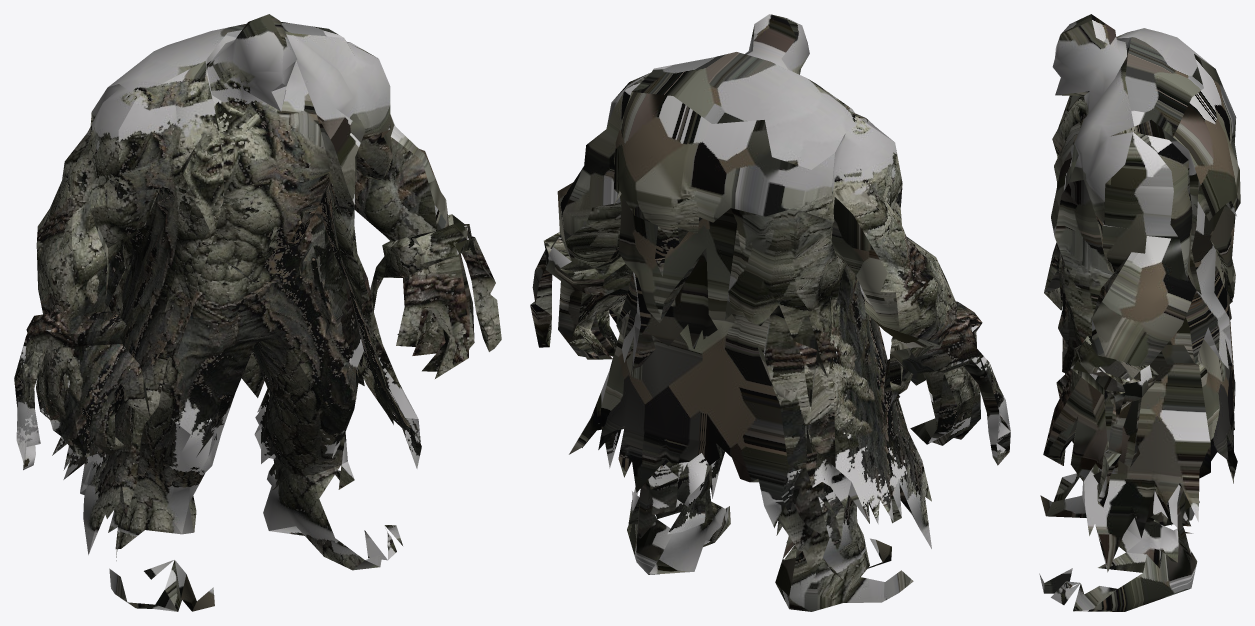
Rendered from colossus.glb.
3 renders of one model, left to right at view 1: azimuth 30°, elevation 25°; view 2: azimuth 150°, elevation 25°; view 3: azimuth 270°, elevation 25°, orthographic. The views are drawn at different scales.
Bounding box in the file's own units: 1.83 × 2 × 0.681.
1 material, 1 textured.
